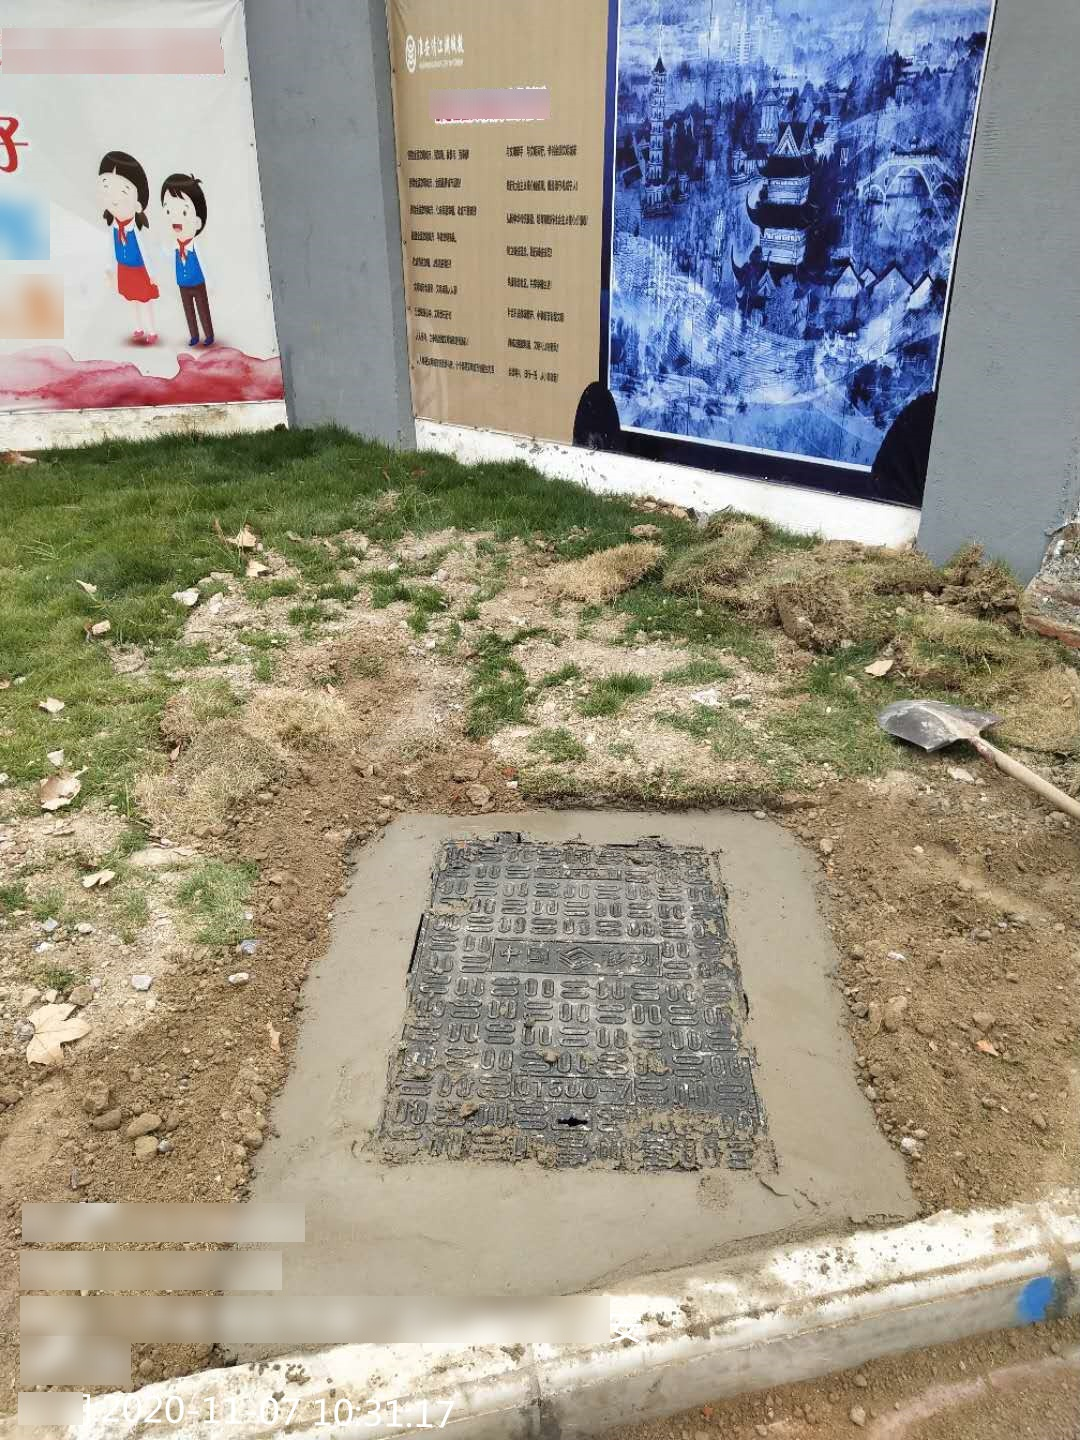good: (368, 833, 793, 1183)
